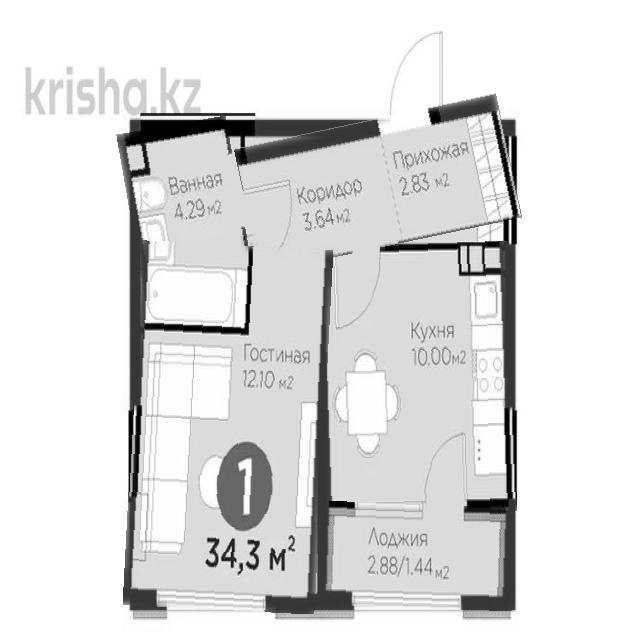balcony: (322, 502, 514, 610)
bathroom: (125, 119, 252, 336)
hallway: (239, 106, 517, 259)
kitchen: (317, 242, 515, 516)
living_room: (124, 247, 333, 614)
